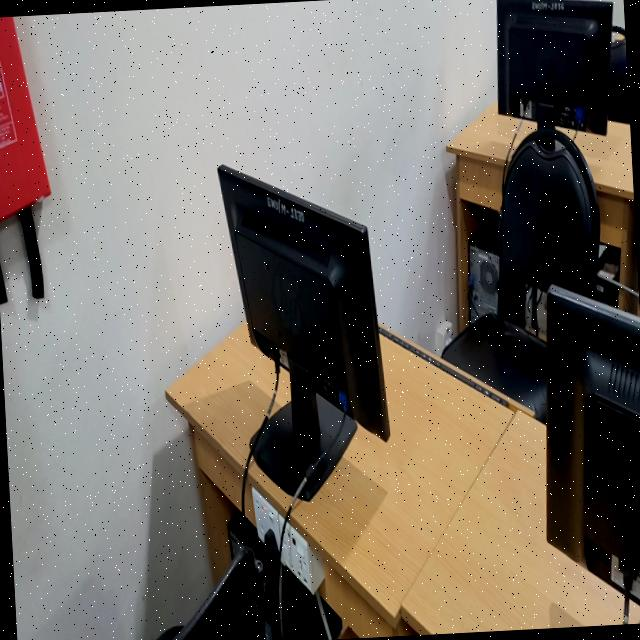Chair: (441, 126, 598, 422), (154, 543, 264, 640), (608, 27, 630, 122)
Cpu: (227, 509, 278, 640), (467, 211, 499, 322), (281, 566, 328, 640), (320, 598, 342, 640)
Monitor: (217, 165, 389, 500), (545, 285, 640, 605), (496, 0, 611, 133)
